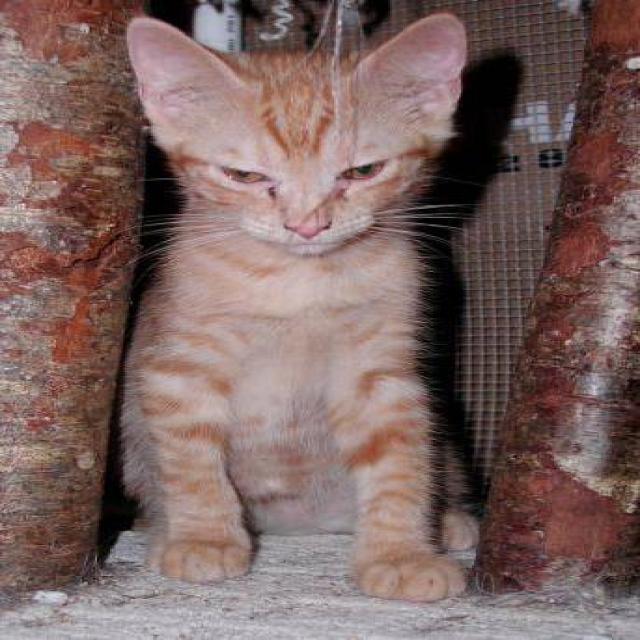cat: (113, 4, 506, 603)
